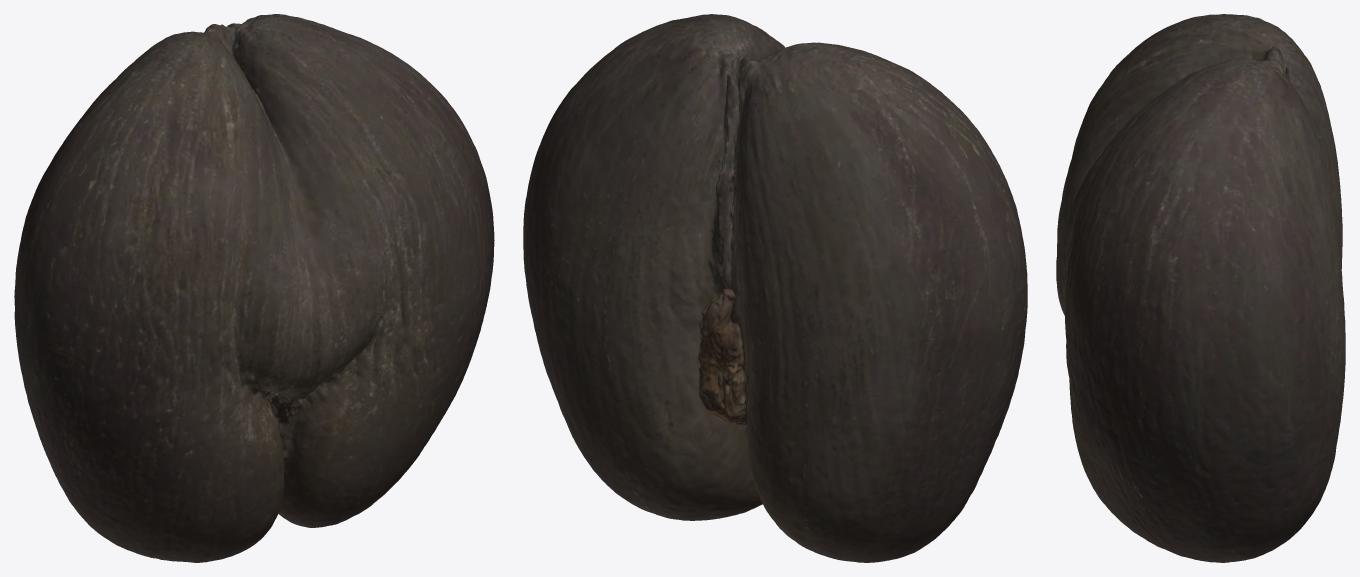
3 renders of one model, left to right at view 1: azimuth 30°, elevation 25°; view 2: azimuth 150°, elevation 25°; view 3: azimuth 270°, elevation 25°, orthographic. The views are drawn at different scales.
Parts seen in each view (by area): view 1: orientacao; view 2: orientacao; view 3: orientacao.
Part boxes in pixels (bbox=[...]): orientacao: bbox=[14, 14, 494, 562]; orientacao: bbox=[523, 14, 1027, 562]; orientacao: bbox=[1056, 14, 1345, 562].
Size of the model in its own units: 10391 by 10897 by 5937.
1 material, 1 textured.
